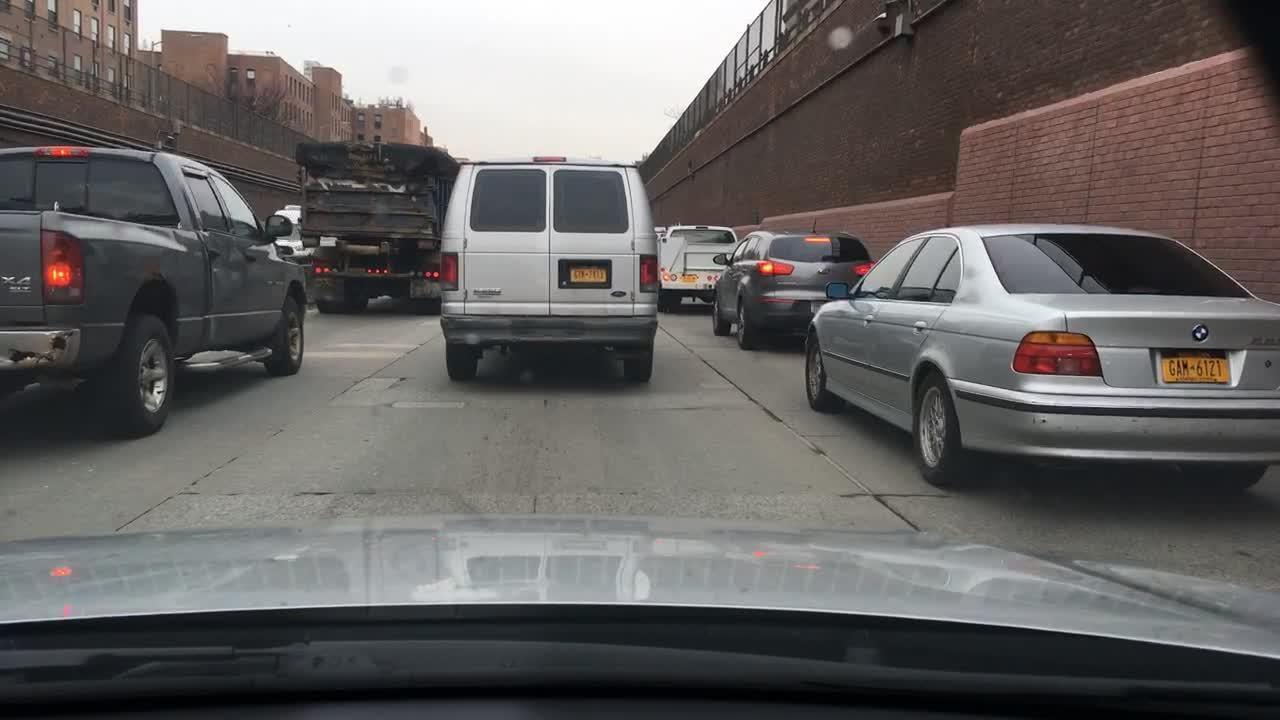bmw: (1188, 319, 1212, 344)
